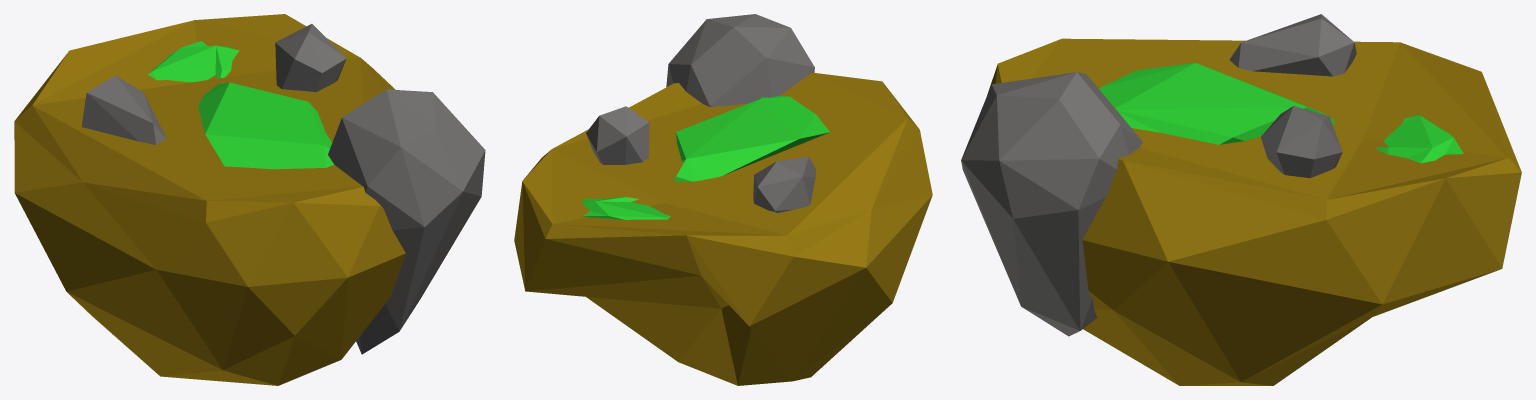
Rendered from Big_Island_1.fbx.
3 renders of one model, left to right at view 1: azimuth 30°, elevation 25°; view 2: azimuth 150°, elevation 25°; view 3: azimuth 270°, elevation 25°, orthographic. The views are drawn at different scales.
Parts seen in each view (by area): view 1: Island; view 2: Island; view 3: Island.
Boxes of the visible parts, x1,y1,x2,y2 form: Island: (14,14,485,385); Island: (514,14,932,385); Island: (961,14,1521,385).
Size of the model in its own units: 1208 by 966 by 1436.
